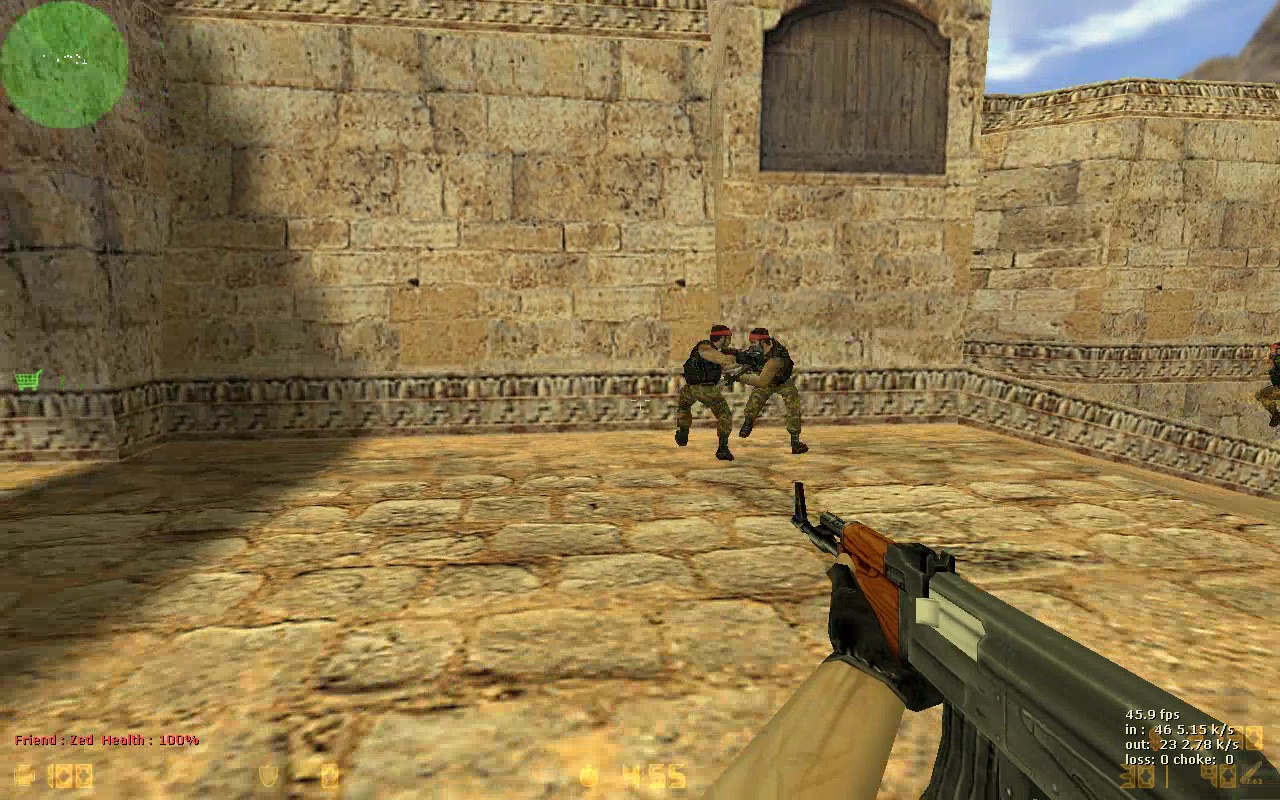terr1: (672, 326, 750, 462), (736, 327, 810, 455)
